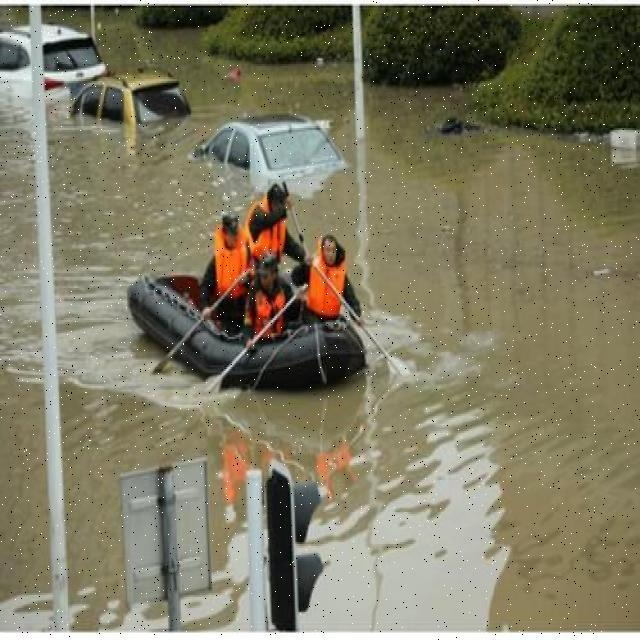rescuer: (298, 223, 359, 331), (246, 247, 299, 336), (249, 170, 301, 257), (210, 213, 252, 308)
